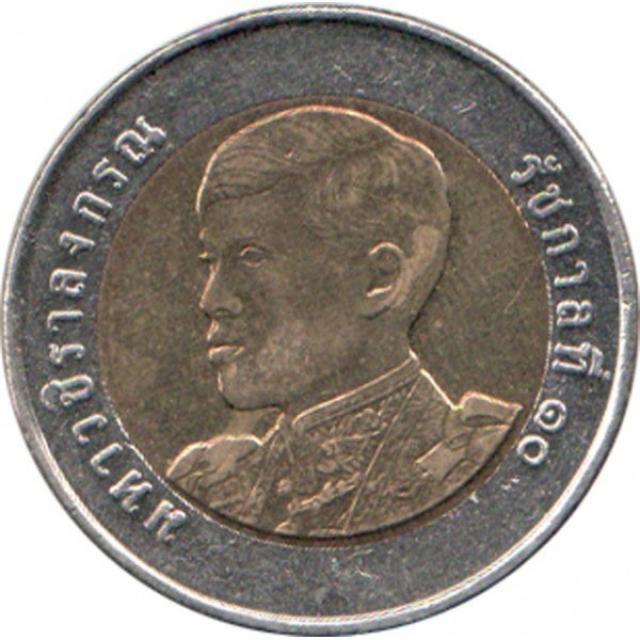10 Bath: (5, 1, 640, 640)
